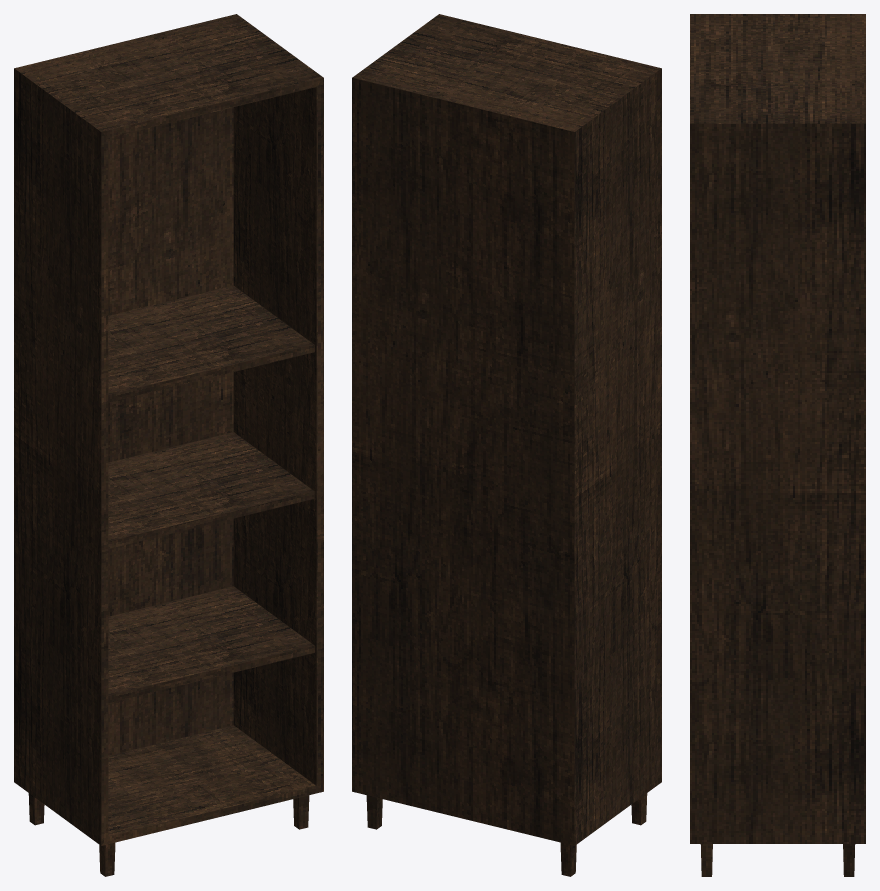
File: shelf_mp_1_1.glb
3 renders of one model, left to right at view 1: azimuth 30°, elevation 25°; view 2: azimuth 150°, elevation 25°; view 3: azimuth 270°, elevation 25°, orthographic.
Parts seen in each view (by area): view 1: shelf_mp_1_1; view 2: shelf_mp_1_1; view 3: shelf_mp_1_1.
Boxes of the visible parts, x1=… form: shelf_mp_1_1: x1=14, y1=14, x2=323, y2=876; shelf_mp_1_1: x1=352, y1=14, x2=661, y2=876; shelf_mp_1_1: x1=690, y1=14, x2=865, y2=876.
Size of the model in its own units: 0.62 by 2 by 0.42.
1 material, 1 textured.
